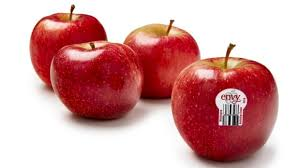apple: (171, 58, 281, 160), (53, 41, 138, 125), (31, 12, 106, 89), (126, 22, 198, 95)
